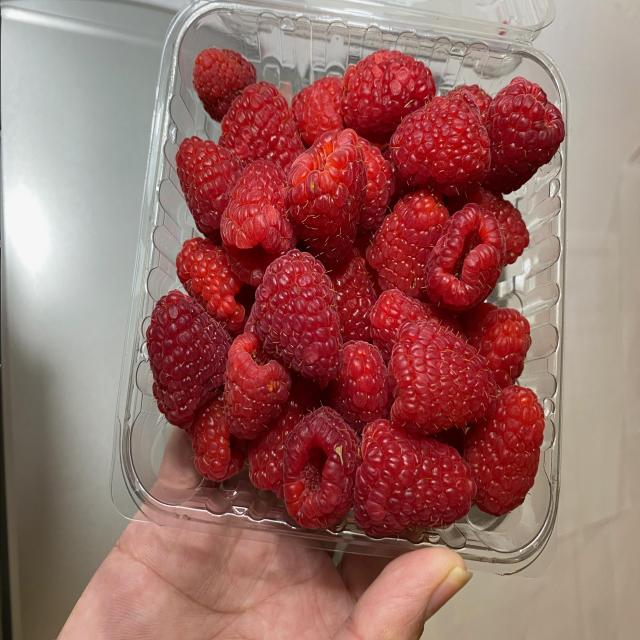raspberries: (143, 47, 554, 524)
